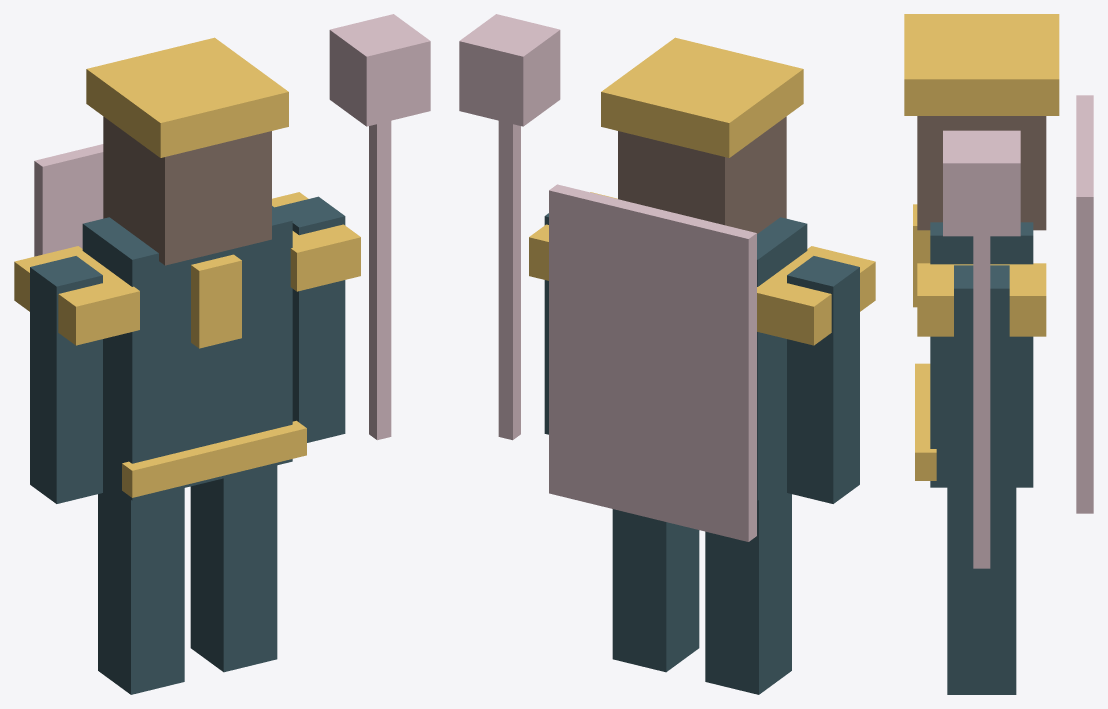
File: 06_kael_dubwater_tactician_of.glb
3 renders of one model, left to right at view 1: azimuth 30°, elevation 25°; view 2: azimuth 150°, elevation 25°; view 3: azimuth 270°, elevation 25°, orthographic. The views are drawn at different scales.
Parts seen in each view (by area): view 1: Kael Dubwater, Tactician of; view 2: Kael Dubwater, Tactician of; view 3: Kael Dubwater, Tactician of.
Boxes of the visible parts, left/top/right/bottom form: Kael Dubwater, Tactician of: left=14, top=14, right=430, bottom=694; Kael Dubwater, Tactician of: left=459, top=14, right=875, bottom=694; Kael Dubwater, Tactician of: left=904, top=14, right=1093, bottom=694.
Bounding box in the file's own units: 1 × 1.52 × 0.4258.
